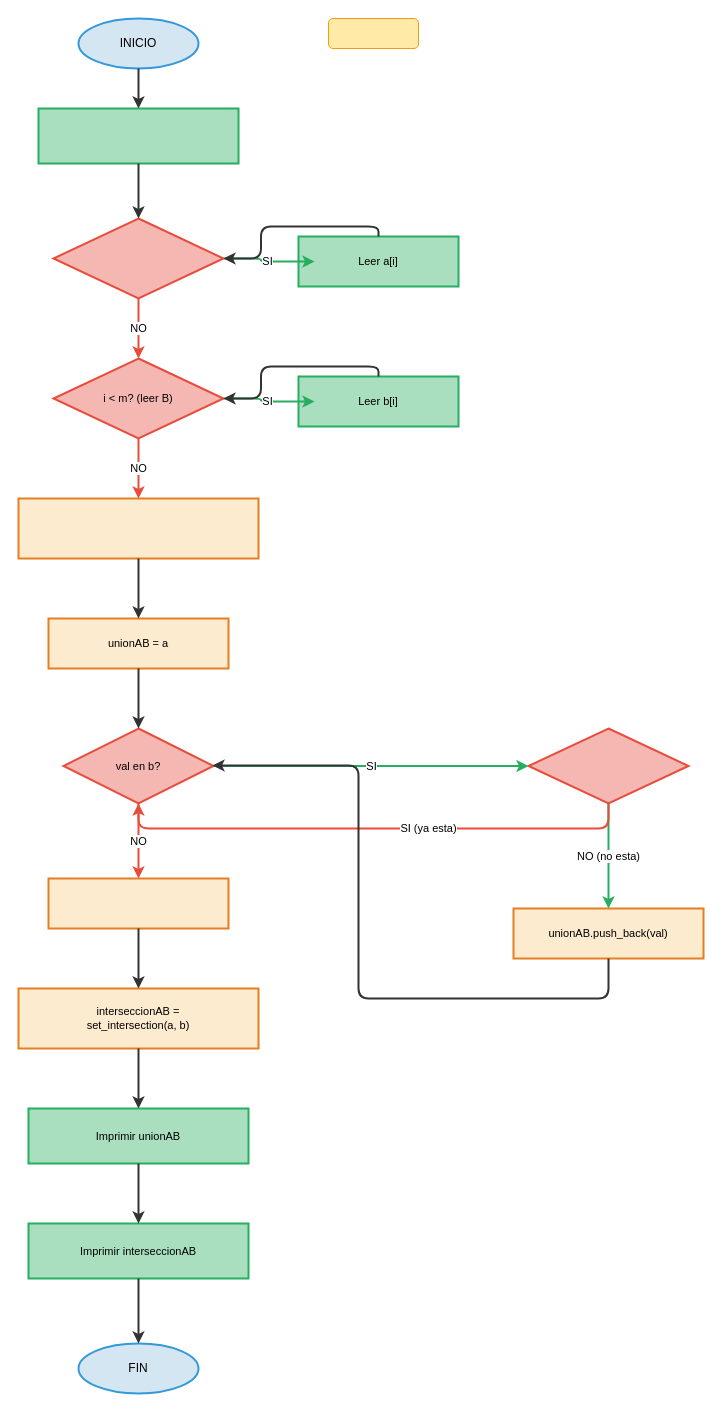
Some shapes in this 721 by 1411 pixel diagram are drawn without their labels. Each missing label, with the centre of its shape:
i < n? (leer A): point (138, 258)
Leer n, m: point (138, 135)
O(n log n): point (373, 33)
sort(a) + unique(a) sort(b) + unique(b): point (138, 528)
sort(unionAB): point (138, 903)
val en unionAB?: point (608, 765)
